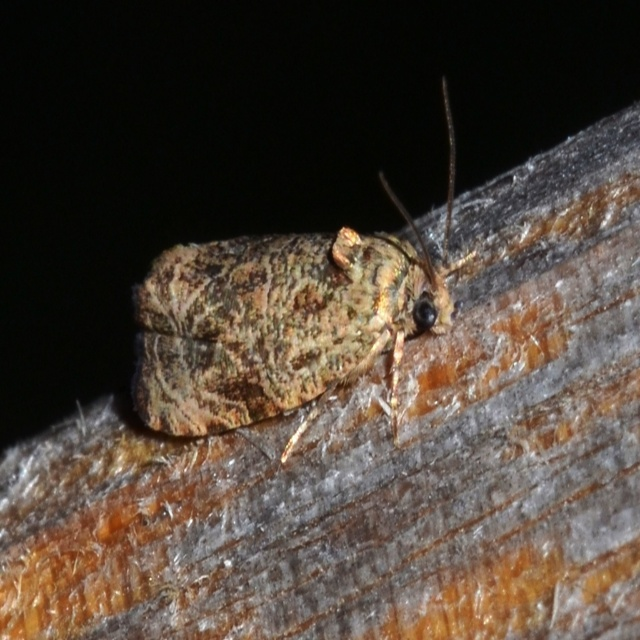Moths and butterflies: (128, 68, 480, 472)
